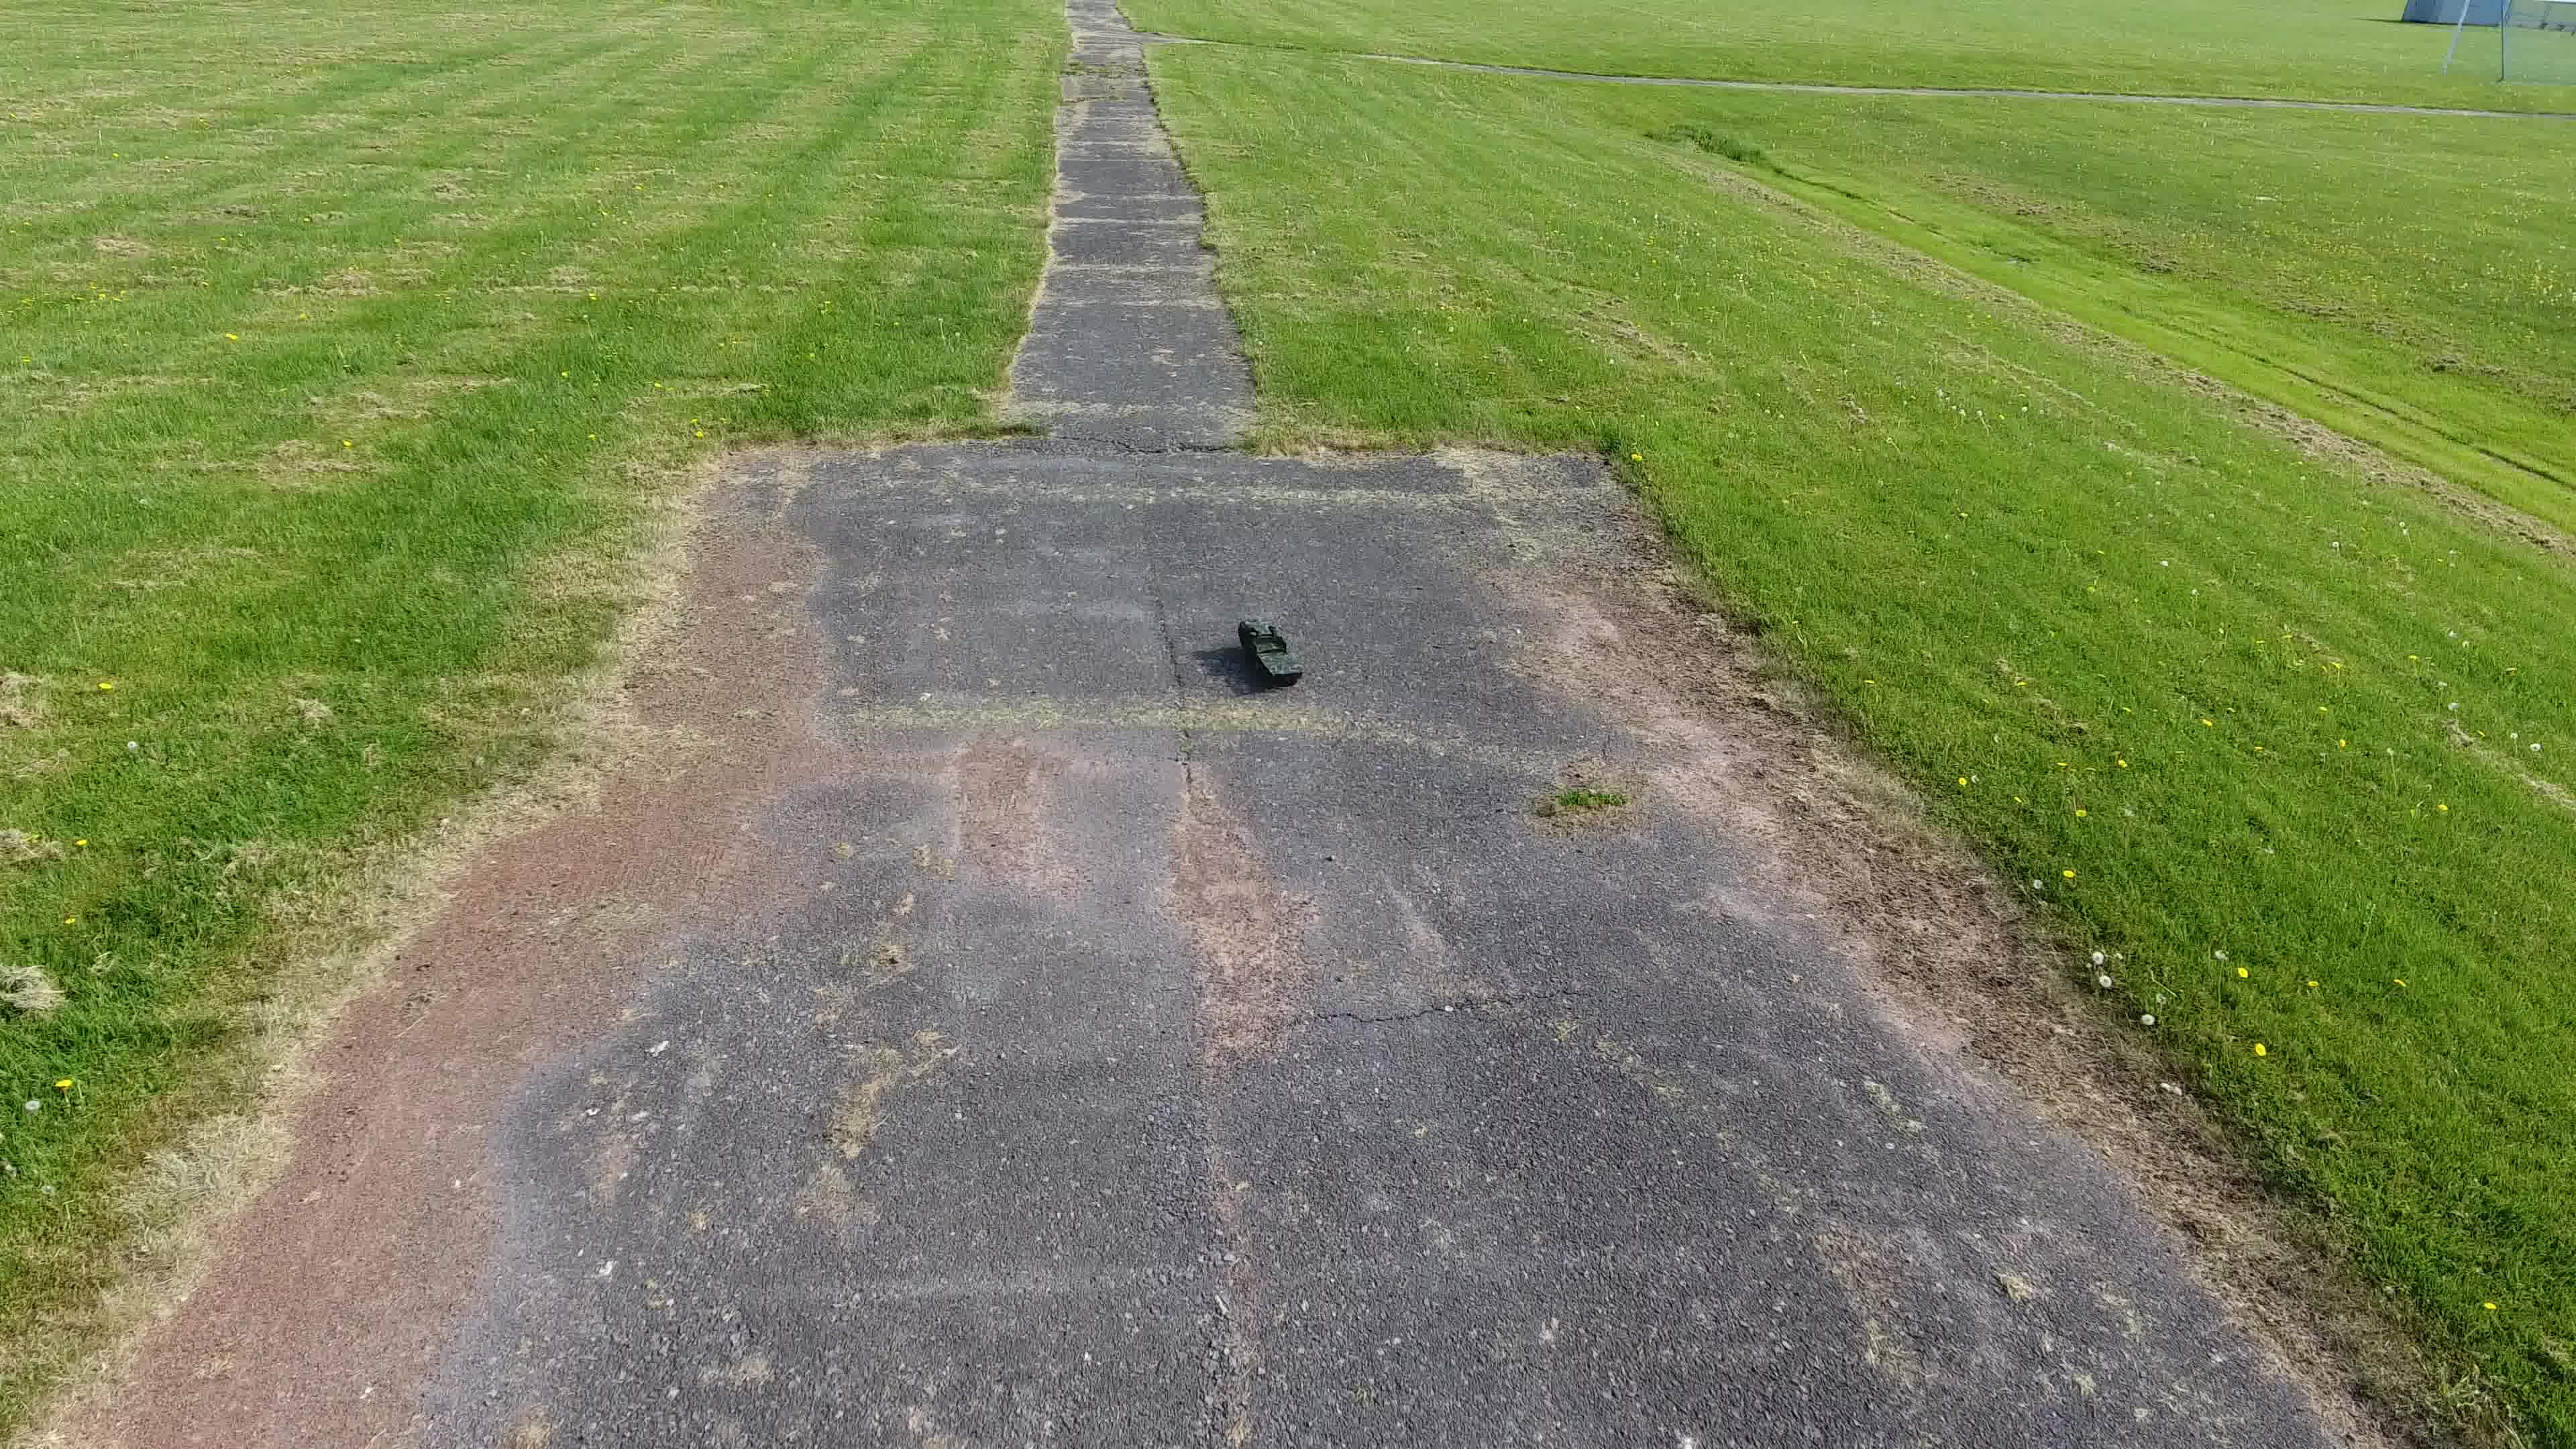transporter9_camo: (1237, 616, 1306, 688)
